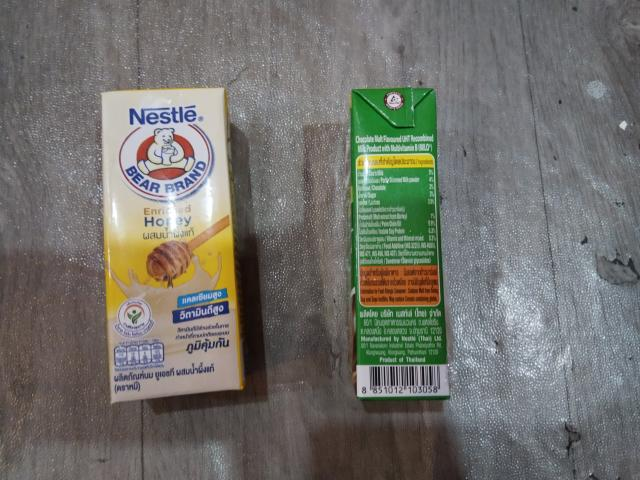drink_box: (94, 86, 248, 403), (346, 81, 456, 408)
